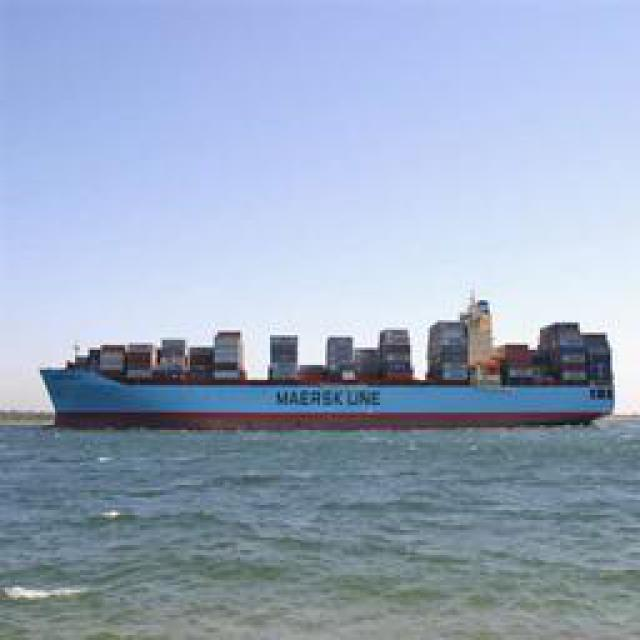Ship: (41, 302, 614, 435)
